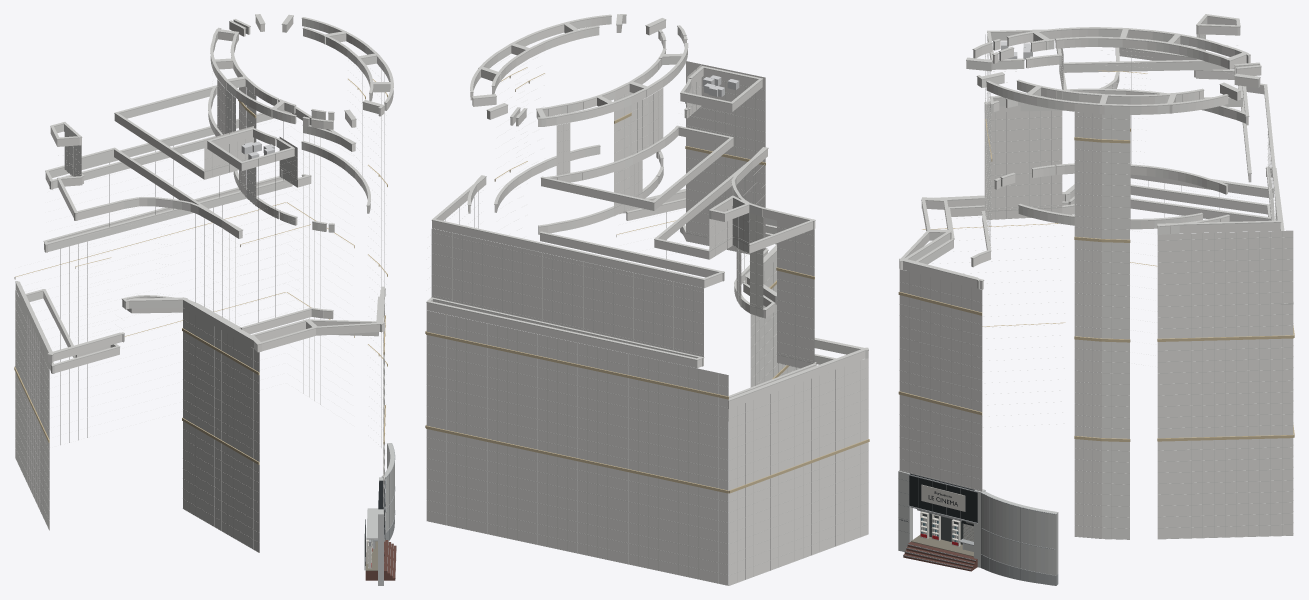
File: d12-toei-composite.glb
The picture shows the model from 3 angles, left to right: view 1: azimuth 30°, elevation 25°; view 2: azimuth 150°, elevation 25°; view 3: azimuth 270°, elevation 25°; orthographic projection. The views are drawn at different scales.
Parts seen in each view (by area): view 1: INFERRED_facade.001, ARCHITECTURE__black; view 2: INFERRED_facade.001; view 3: INFERRED_facade.001, ARCHITECTURE__black.
Boxes of the visible parts, box(x1,y1,x2,y2) form: INFERRED_facade.001: box(14, 14, 393, 552); ARCHITECTURE__black: box(364, 443, 396, 585); INFERRED_facade.001: box(425, 14, 869, 585); INFERRED_facade.001: box(898, 14, 1294, 539); ARCHITECTURE__black: box(898, 470, 1058, 585).
Bounding box in the file's own units: 42.75 × 53.43 × 38.98.
2 materials, 2 textured.
